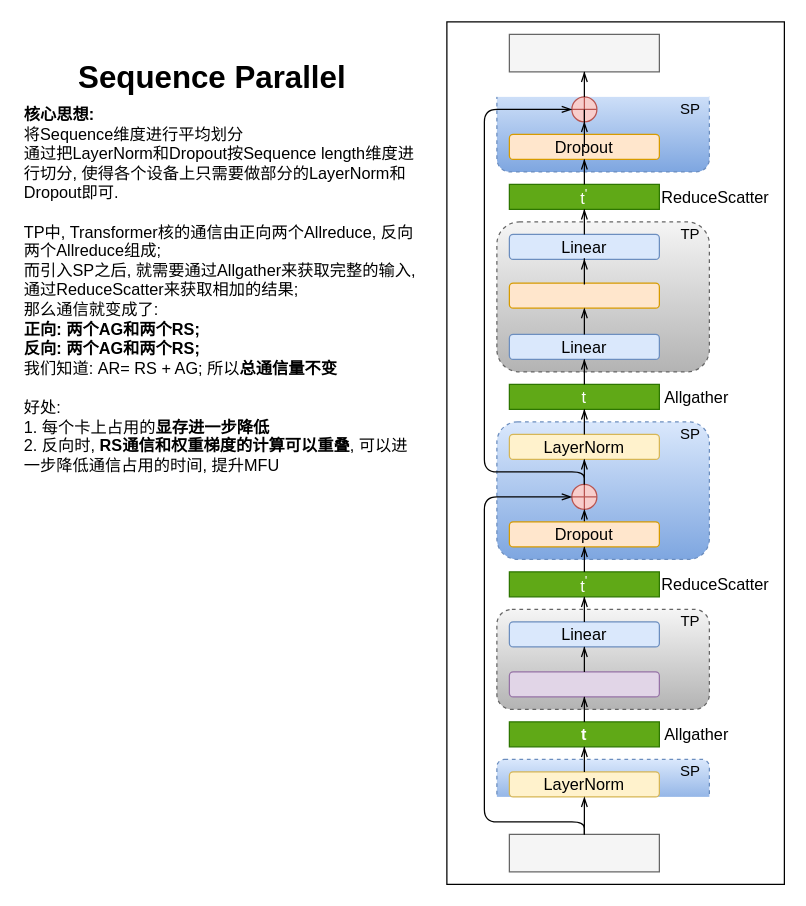
Some shapes in this 806 by 906 pixel diagram are drawn without their labels. The centre of each missing label's shape, as x and y in pixels:
"GeLU" belongs at (x=583, y=295).
"Self Attention" belongs at (x=583, y=684).
"Transformer Layer input" belongs at (x=583, y=852).
"Transformer Layer output" belongs at (x=583, y=52).
